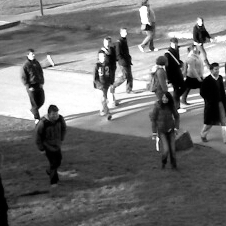person: (36, 103, 67, 184), (151, 91, 182, 169), (200, 62, 226, 145), (19, 47, 45, 121), (166, 36, 185, 111), (184, 43, 207, 103), (116, 26, 136, 93), (102, 37, 120, 106), (95, 50, 112, 121), (135, 1, 158, 52), (191, 14, 212, 64), (151, 55, 167, 102)
